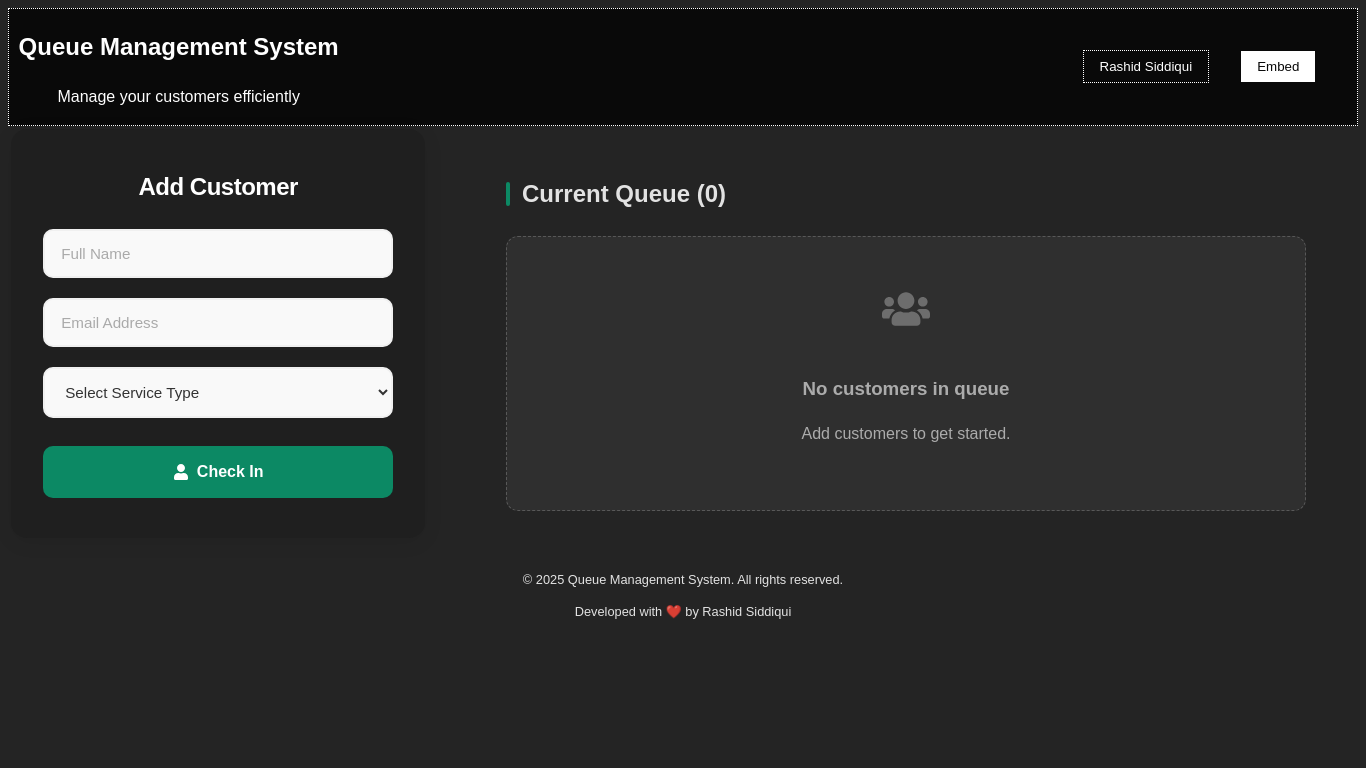
Test: Add Customer › should add customer when all fields are valid
Type "John Doe" into the field with test id "queue-form-name". click: (218, 254)
box: x1=43 y1=229 x2=393 y2=278
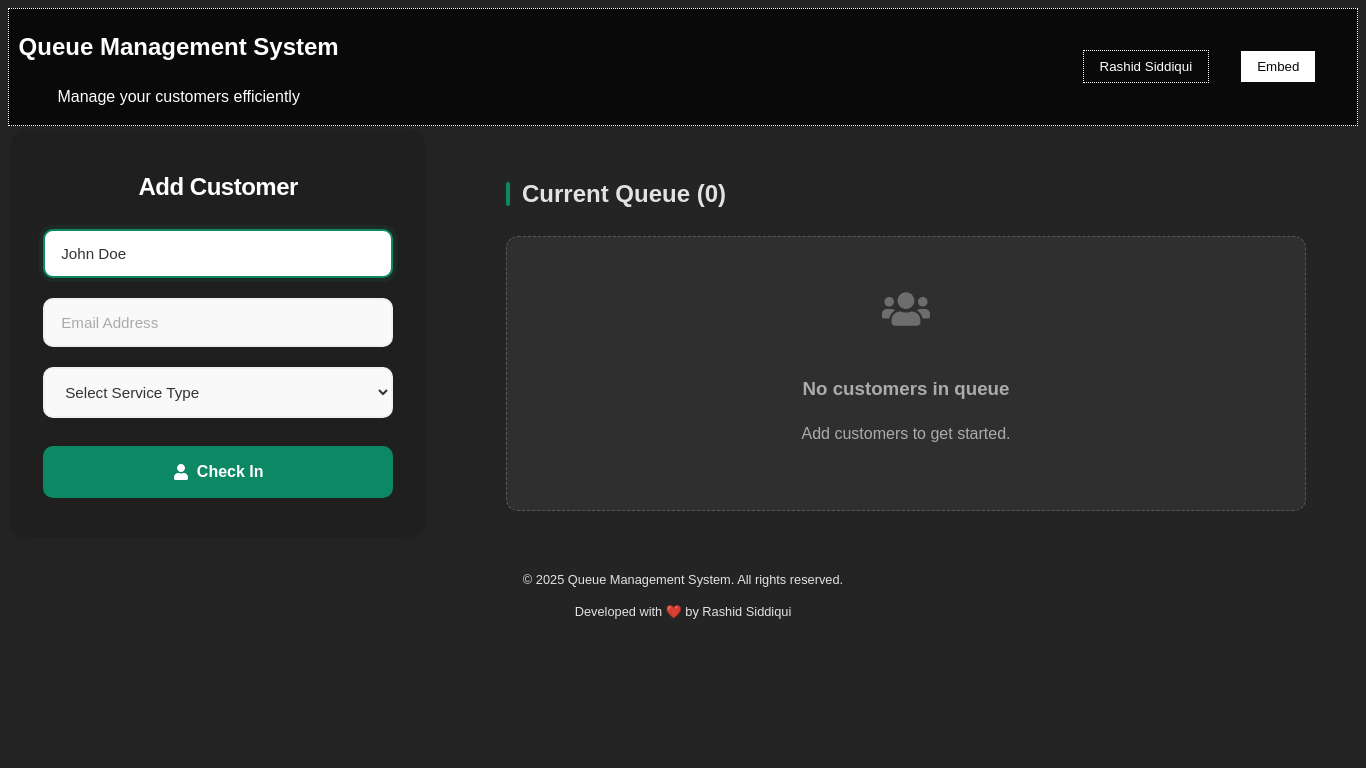
Type "john.doe@example.com" into the field with test id "queue-form-email". click: (218, 323)
box: x1=43 y1=298 x2=393 y2=347
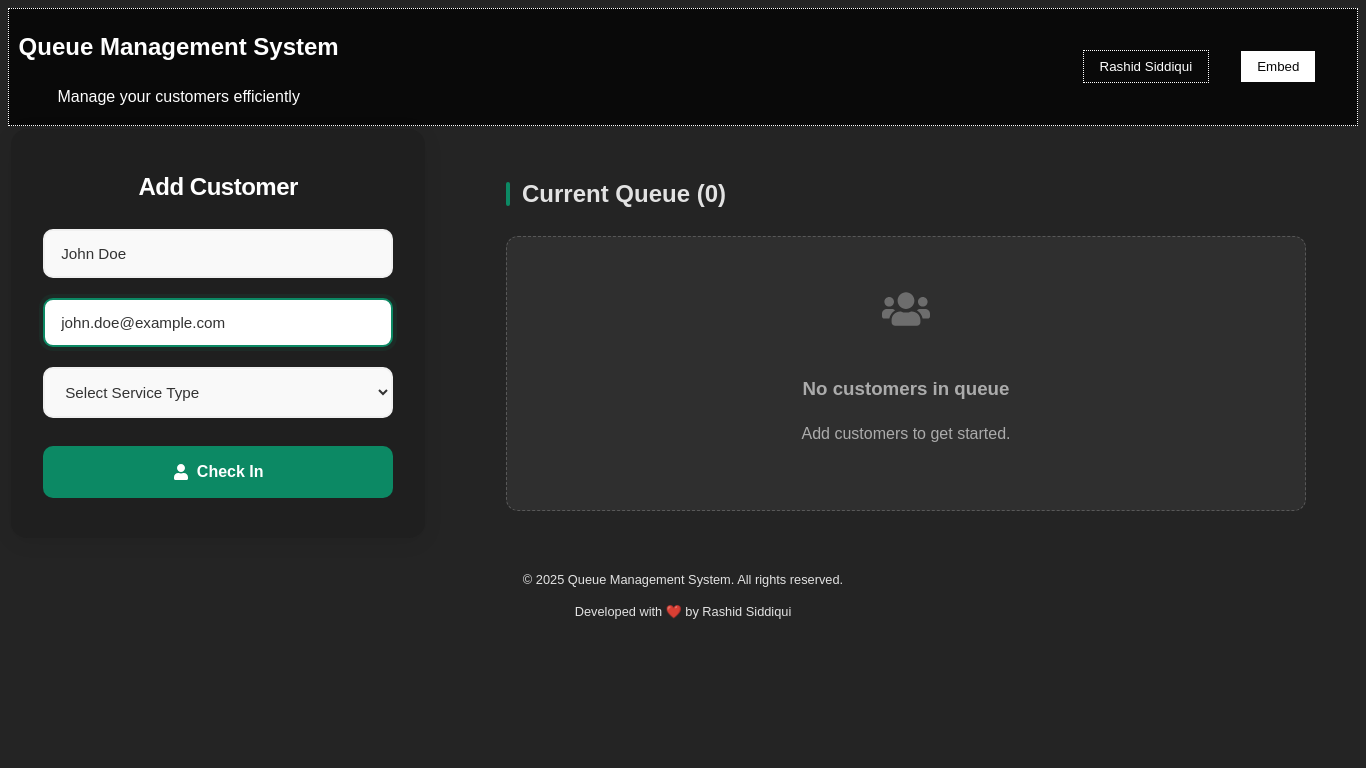
Select "Consultation" in the dropdown with test id "queue-form-service-type". click: (218, 393)
box: x1=43 y1=367 x2=393 y2=418
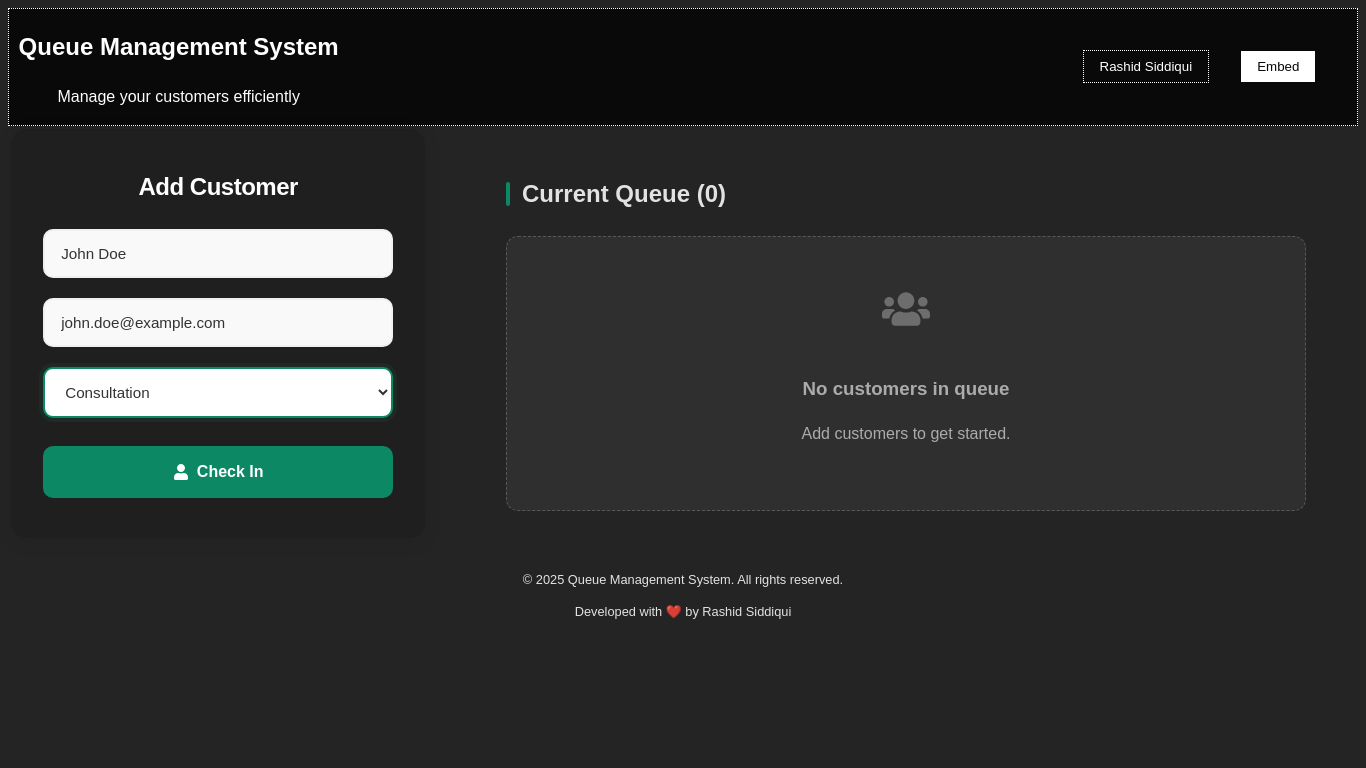
Click the button with test id "queue-form-check-in". click: click(218, 472)
box: x1=43 y1=446 x2=393 y2=498
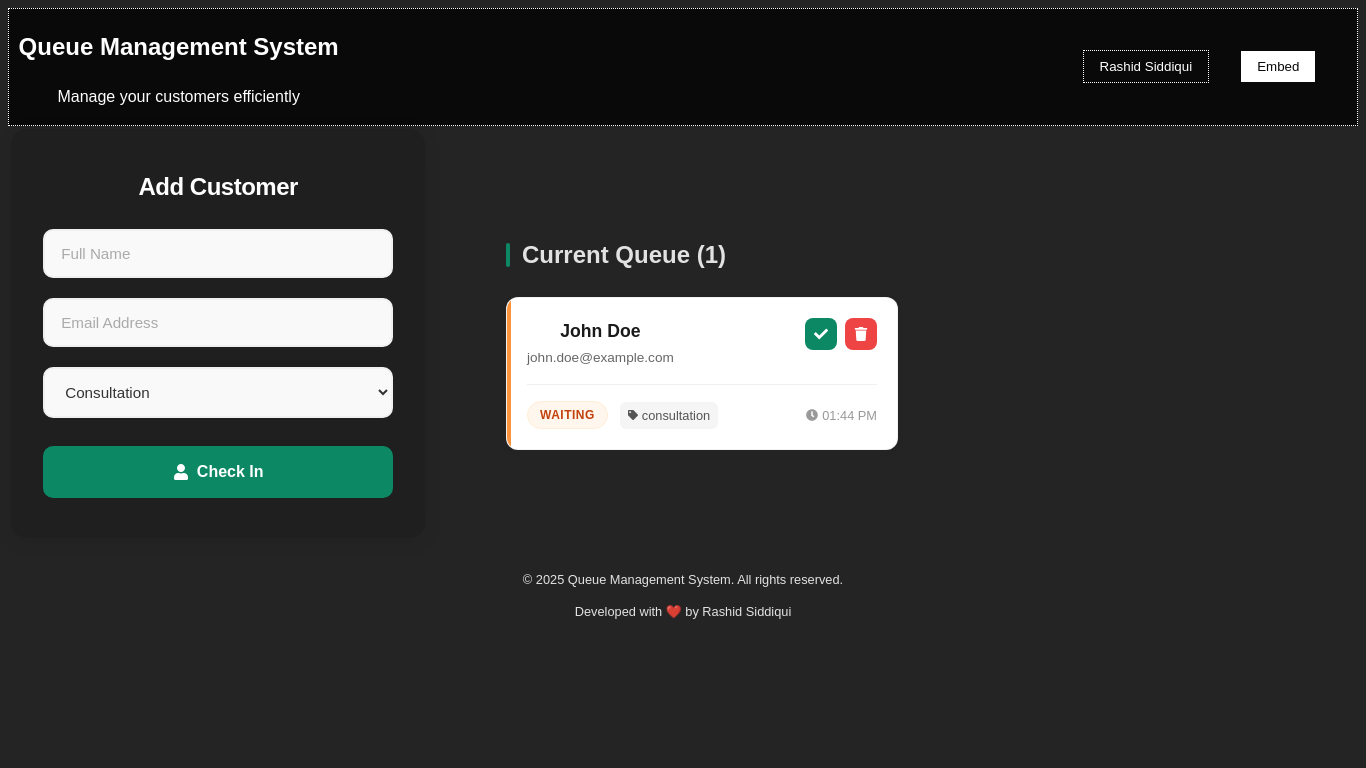
Expected: the heading with test id "queue-title" reads "Current Queue (1)", x1=522 y1=241 x2=726 y2=268
Expected: the heading with test id "customer-card" reads "John Doe", x1=560 y1=321 x2=640 y2=341
